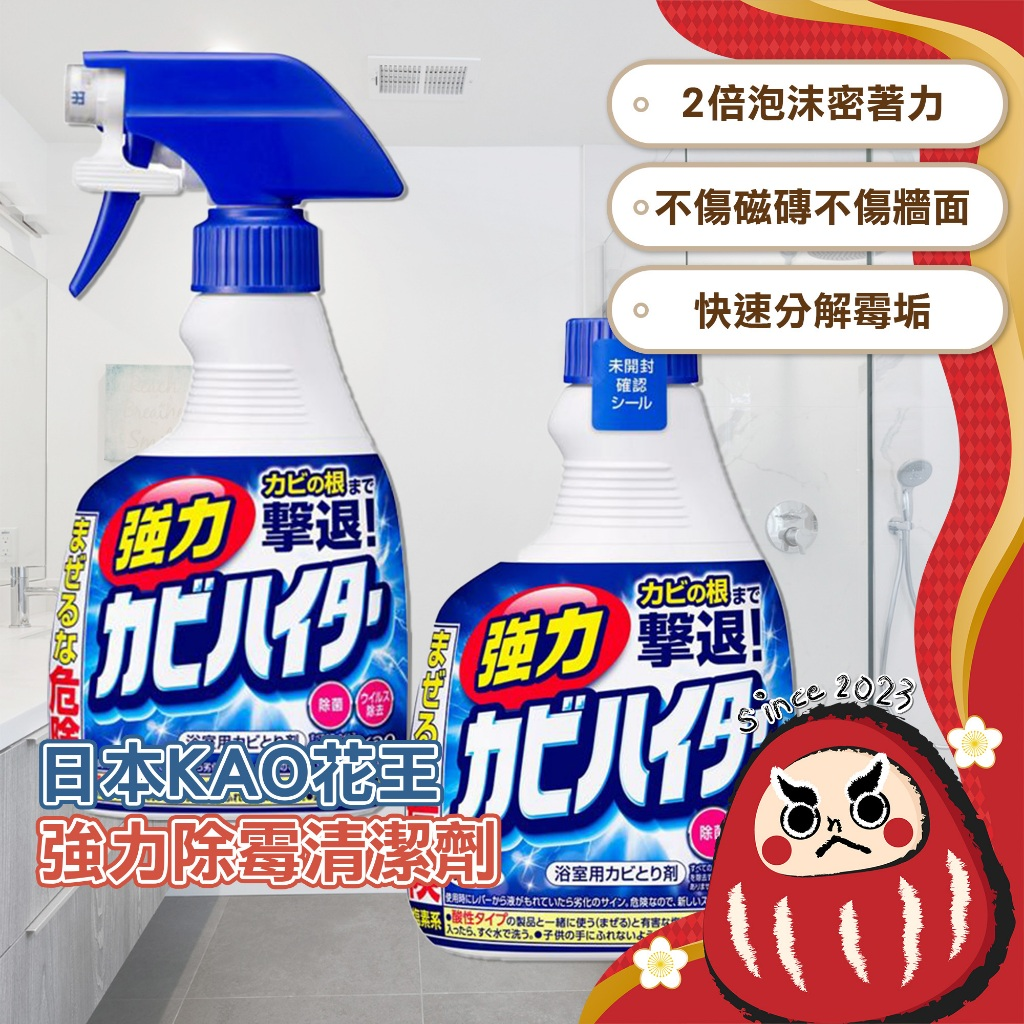cleaner: (46, 49, 442, 897), (423, 318, 811, 966)
